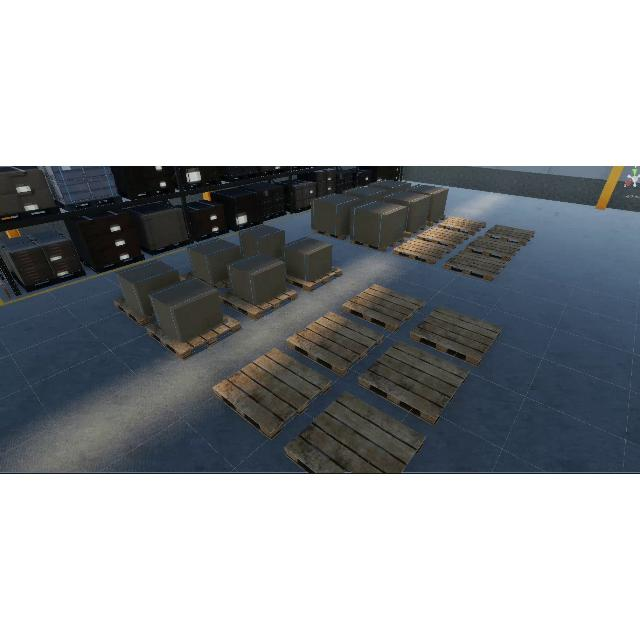wooden_pallet: (212, 347, 332, 440), (357, 341, 469, 427), (286, 312, 384, 377), (408, 306, 503, 368), (146, 312, 242, 362), (342, 284, 425, 333), (219, 288, 298, 321), (442, 249, 508, 282), (286, 265, 343, 293), (393, 239, 452, 265), (464, 236, 522, 262), (111, 296, 155, 327), (417, 226, 469, 249), (483, 224, 535, 246), (438, 216, 486, 235), (350, 236, 405, 252)
